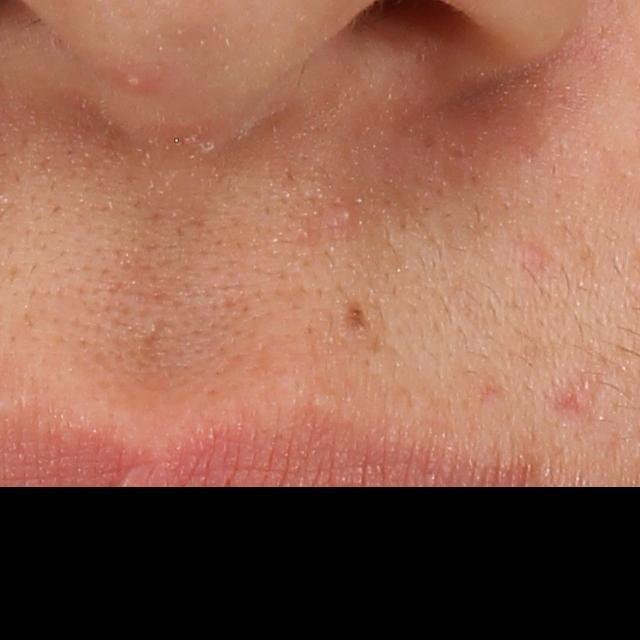nevus: (349, 299, 366, 328)
